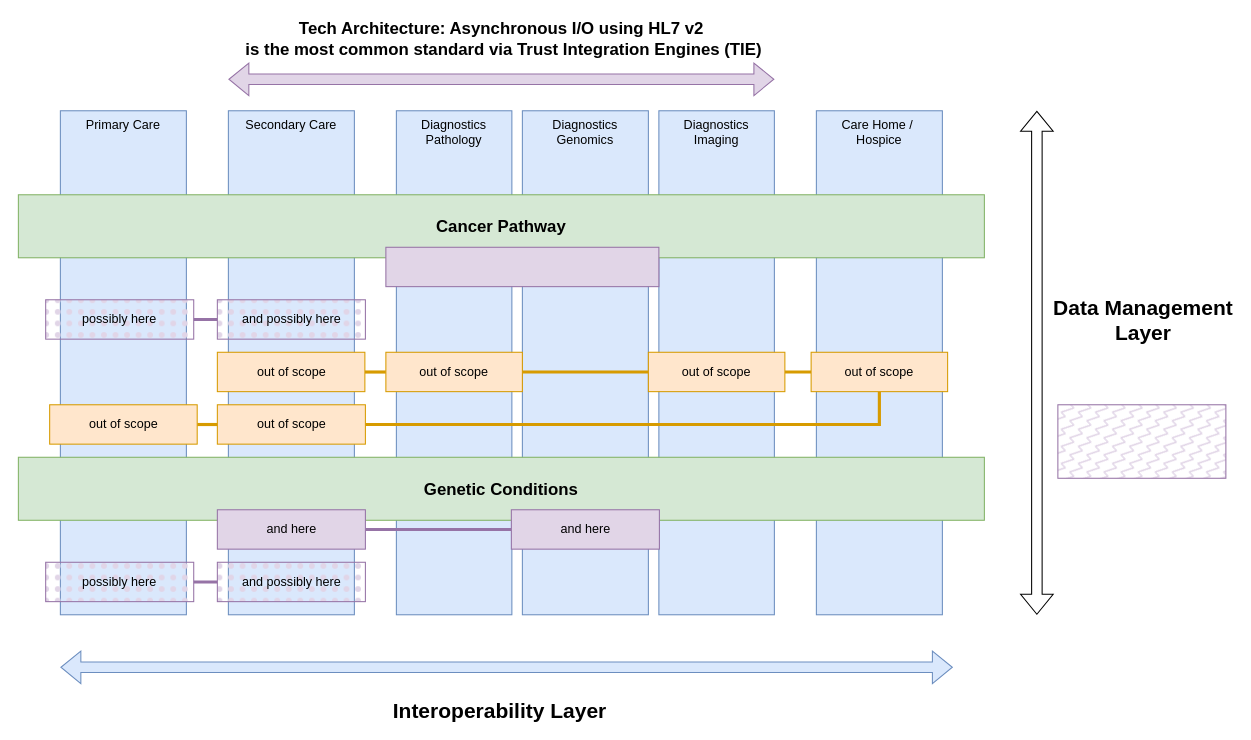
Image size: 1251x740. Some labels were removed from this diagram. The centre of each missing label's shape, as x and y in pixels:
Future work pipelines to Unified Genomic Record via REST API: point (1141, 441)
I'm working here: point (522, 266)
